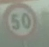limite 50: (1, 2, 48, 46)
